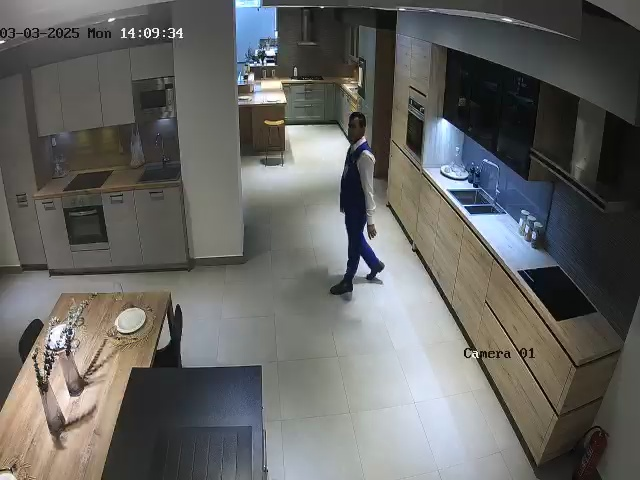employee: (330, 112, 385, 296)
